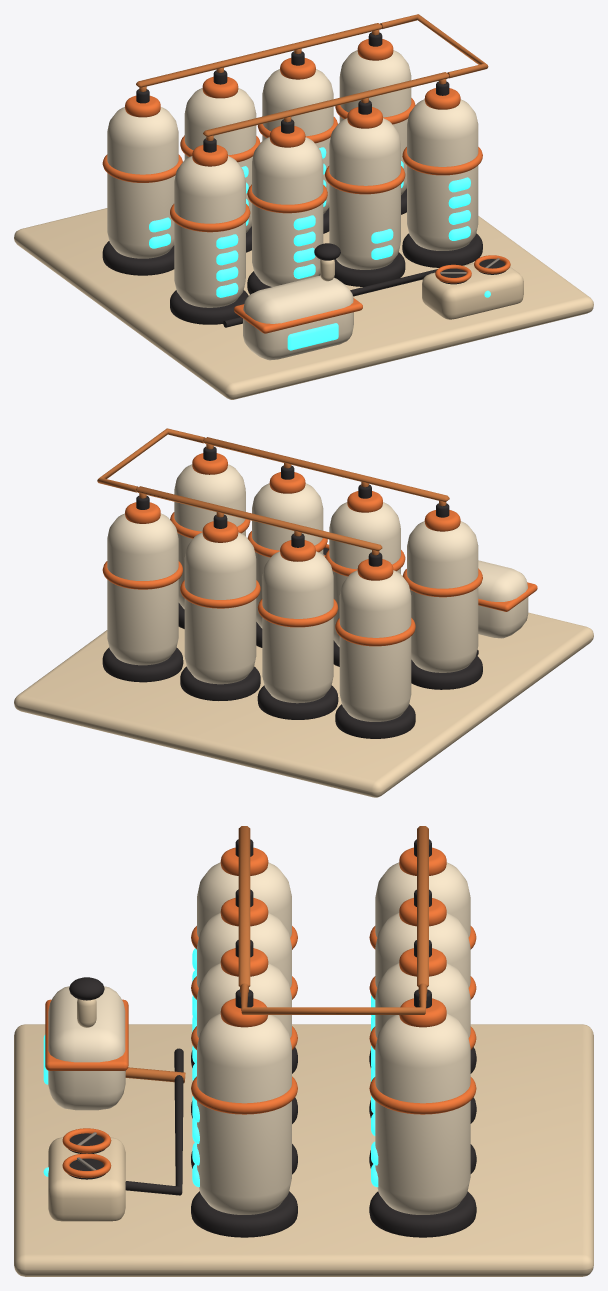
Rendered from batteries-20.glb.
3 renders of one model, top to bottom at view 1: azimuth 30°, elevation 25°; view 2: azimuth 150°, elevation 25°; view 3: azimuth 270°, elevation 25°, orthographic. The views are drawn at different scales.
Visible parts, largest first — view 1: Cube.037, Cube, Cube.038, Cylinder, Cube.001, Cube.013; view 2: Cube.037, Cube, Cube.038, Cylinder, Cube.013; view 3: Cube, Cube.037, Cube.038, Cylinder, Cube.013, Cube.001.
Part boxes in pixels (bbox=[...]): Cube.037: bbox=[107, 50, 478, 360]; Cube: bbox=[14, 208, 593, 399]; Cube.038: bbox=[102, 39, 510, 333]; Cylinder: bbox=[102, 32, 505, 327]; Cube.001: bbox=[149, 147, 490, 350]; Cube.013: bbox=[136, 14, 488, 140]; Cube.037: bbox=[107, 464, 528, 721]; Cube: bbox=[14, 612, 593, 797]; Cube.038: bbox=[102, 453, 537, 646]; Cylinder: bbox=[102, 446, 482, 738]; Cube.013: bbox=[97, 428, 449, 555]; Cube: bbox=[14, 999, 593, 1276]; Cube.037: bbox=[48, 862, 470, 1214]; Cube.038: bbox=[45, 847, 476, 1178]; Cylinder: bbox=[68, 839, 476, 1237]; Cube.013: bbox=[125, 826, 428, 1082]; Cube.001: bbox=[43, 948, 378, 1187].
Bounding box in the file's own units: 1.9 × 0.955 × 1.95.
